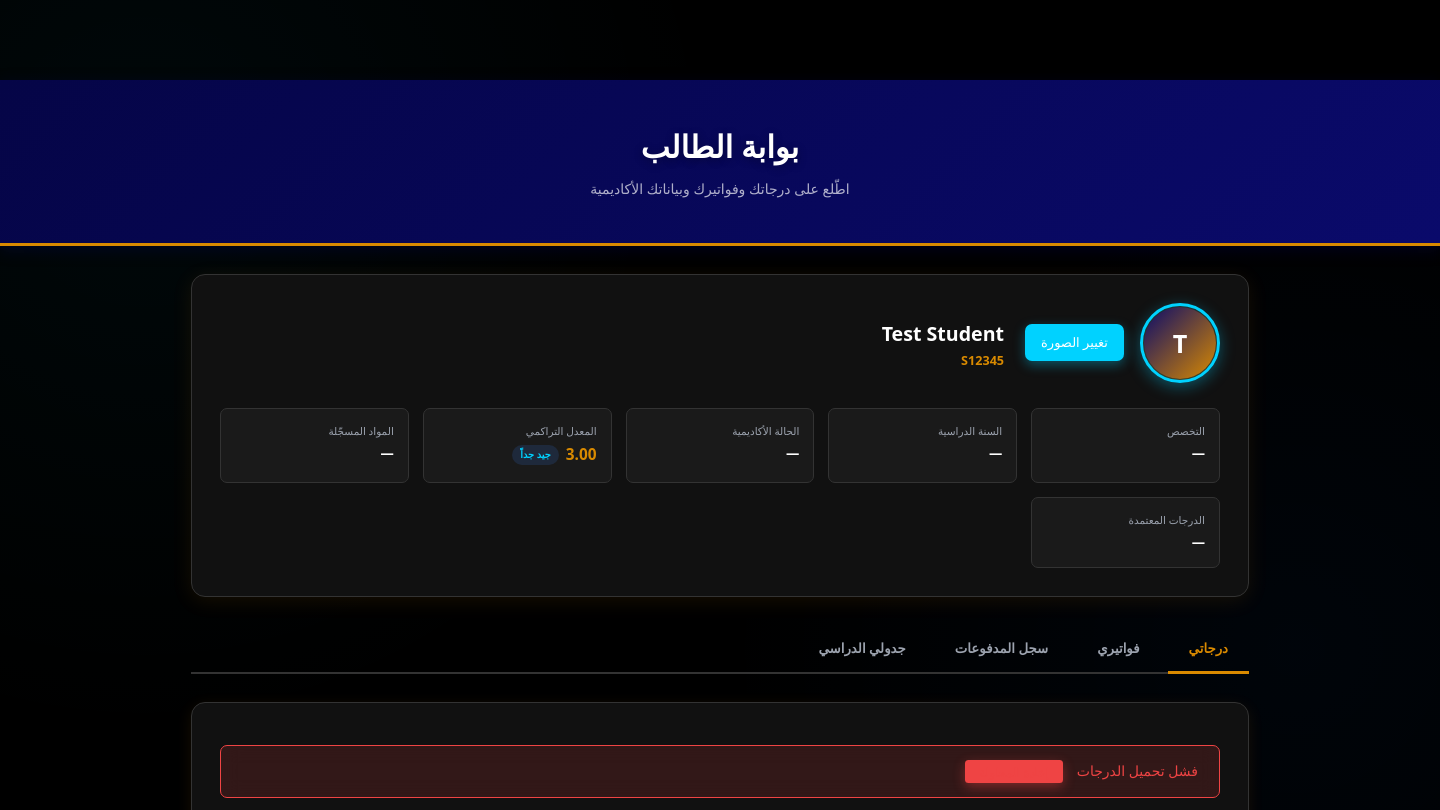
Test case: Task 2.2: Invoices Tab Preservation › Property 2.2.1: Invoice summary cards display correctly
The image size is (1440, 810).
Expected: the heading "Test Student" is shown, [882,318,1004,349]
// Click on Invoices tab
Click the button "فواتيري". click: (1118,650)
box: [1076,625,1161,674]
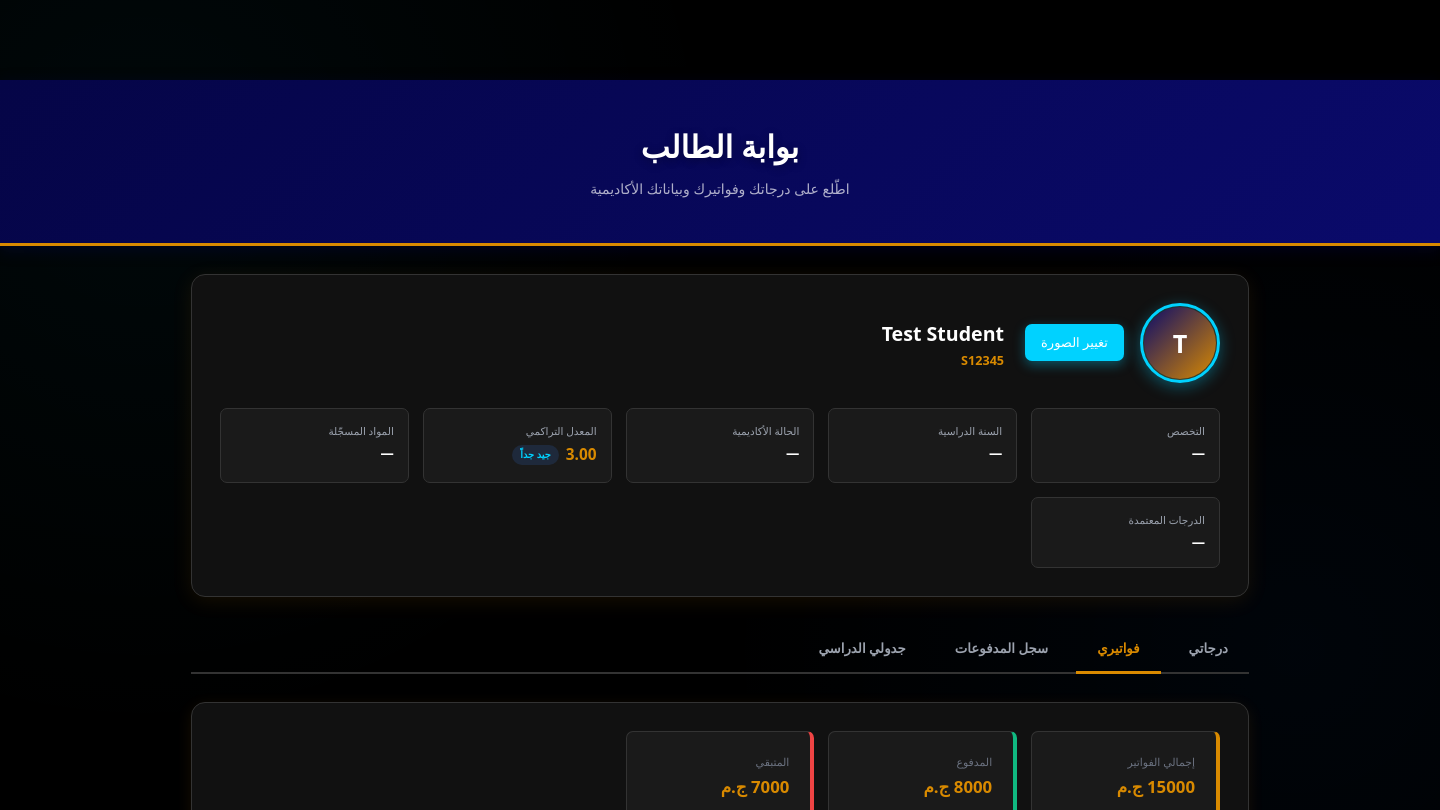
Result: the text "إجمالي الفواتير" is shown at [1128,754,1195,769]
Result: the text "المدفوع" is shown at [956,754,992,769]
Result: the text "المتبقي" is shown at [756,754,789,769]
